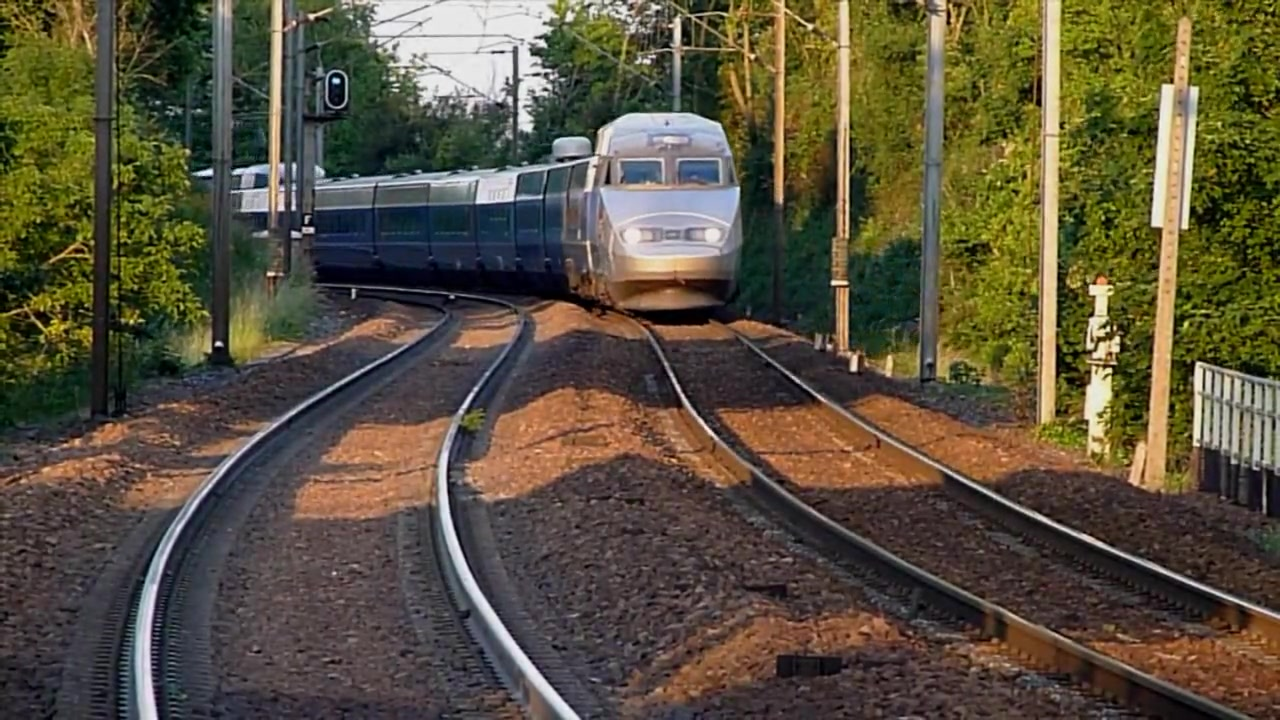train: (230, 112, 749, 321)
